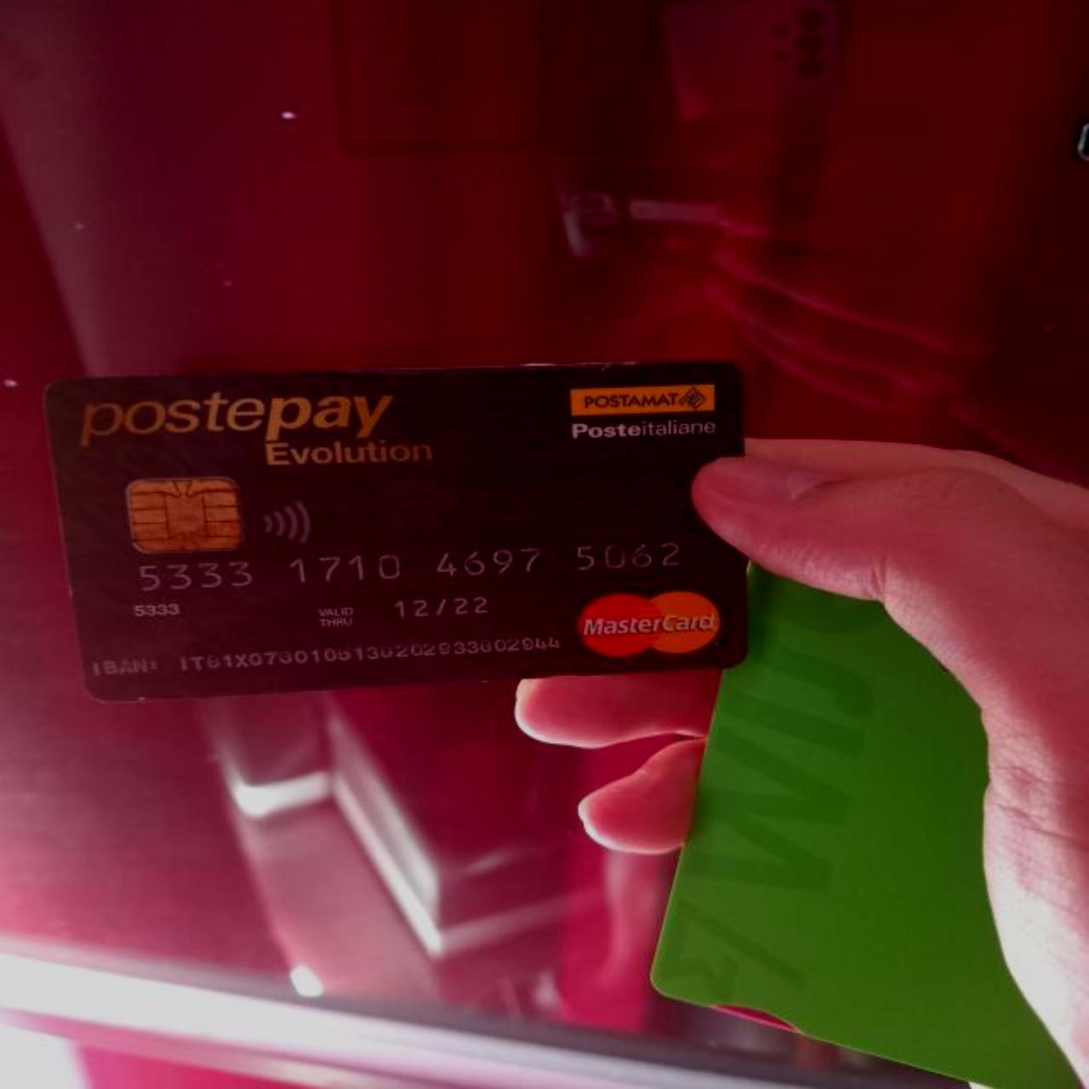credit_card: (34, 340, 766, 684)
